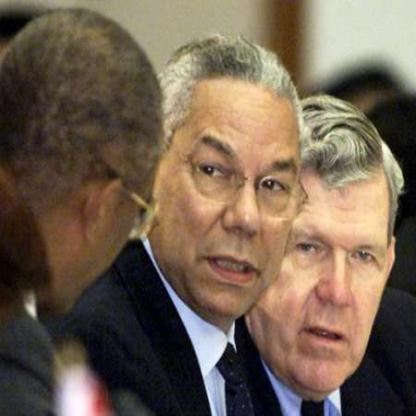face: (140, 42, 309, 327), (240, 110, 400, 400)
